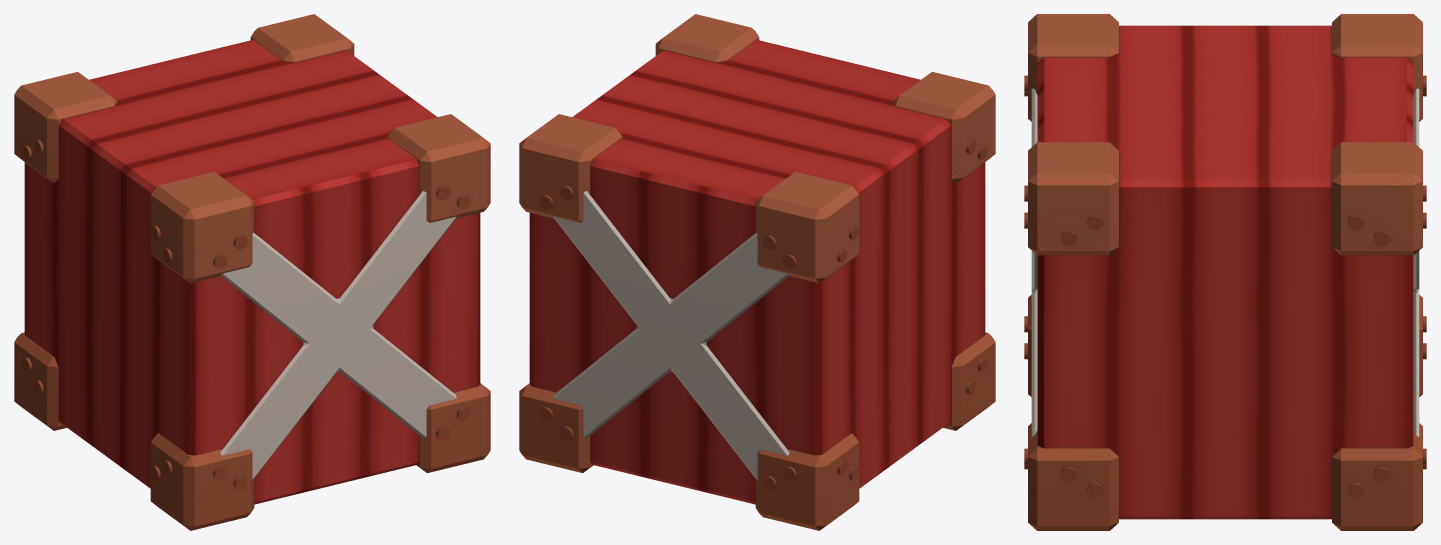
Rendered from xbox_red_3_high.glb.
The picture shows the model from 3 angles, left to right: view 1: azimuth 30°, elevation 25°; view 2: azimuth 150°, elevation 25°; view 3: azimuth 270°, elevation 25°; orthographic projection. The views are drawn at different scales.
Parts seen in each view (by area): view 1: xbox_red_3; view 2: xbox_red_3; view 3: xbox_red_3.
Part boxes in pixels (x1,y1,x2,y2): xbox_red_3: [14, 14, 490, 530]; xbox_red_3: [519, 14, 995, 530]; xbox_red_3: [1024, 14, 1426, 530].
Size of the model in its own units: 0.664 by 0.652 by 0.664.
1 material, 1 textured.
